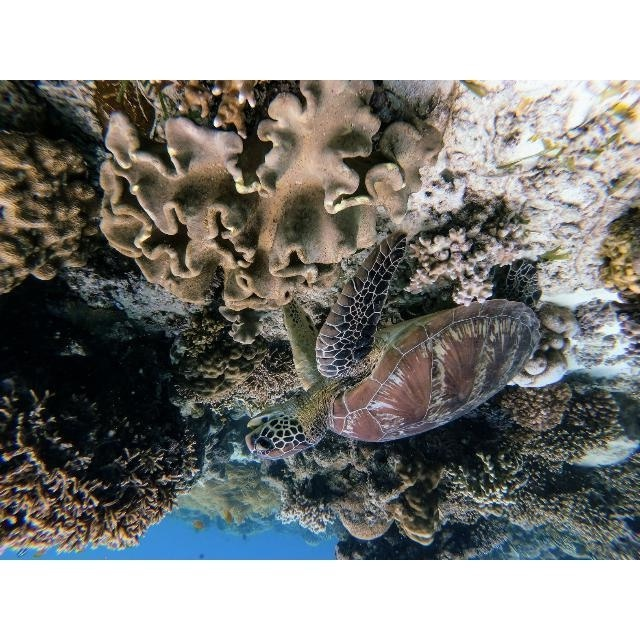turtle: (246, 229, 542, 459)
